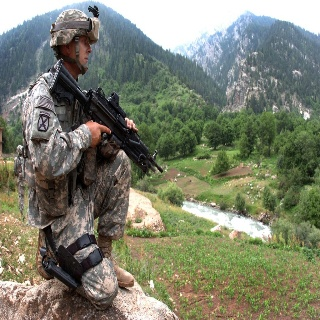rifle: (48, 58, 165, 180)
